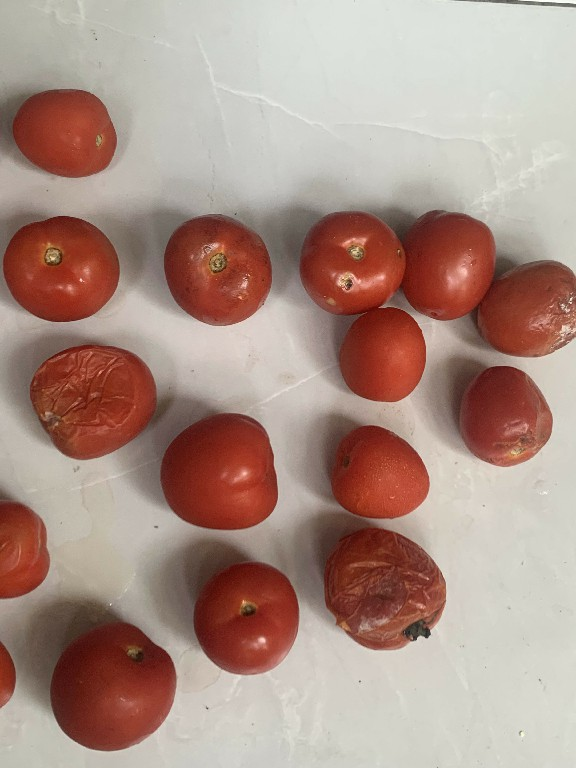NG: (320, 522, 456, 651), (25, 338, 157, 461), (296, 202, 408, 316), (472, 257, 575, 360), (457, 363, 559, 467)
OK: (46, 625, 182, 754), (154, 410, 284, 532), (160, 206, 278, 329), (0, 212, 126, 323), (192, 559, 302, 676), (0, 79, 123, 182), (399, 195, 497, 323), (326, 422, 434, 520), (335, 301, 430, 405)
